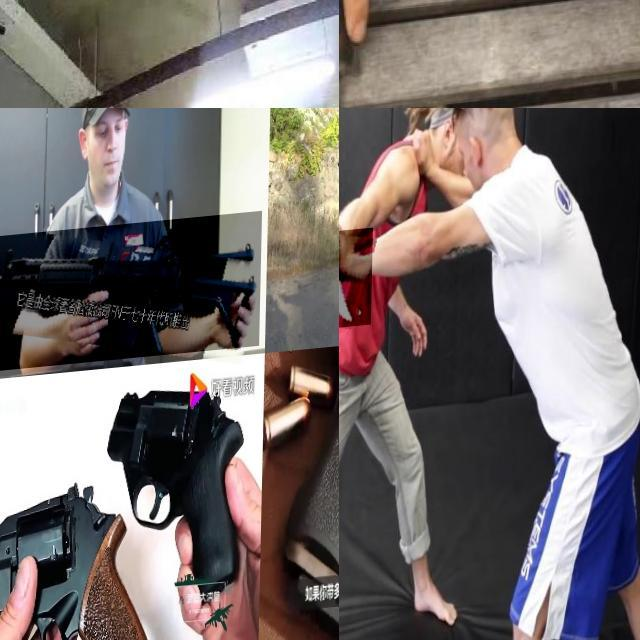-: (339, 0, 411, 108), (339, 232, 378, 335)
gun-knife-thesis - v11 Yolov5 augmented: (0, 217, 262, 376), (107, 376, 255, 622), (0, 501, 159, 640)
